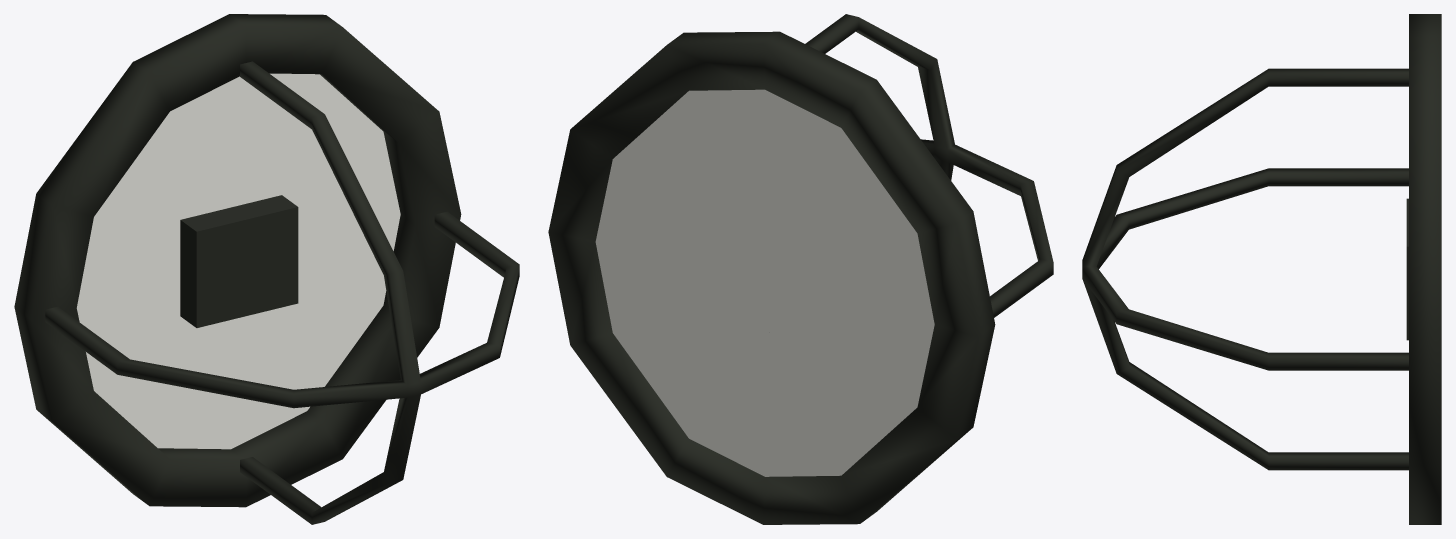
Rendered from lampada.fbx.
3 renders of one model, left to right at view 1: azimuth 30°, elevation 25°; view 2: azimuth 150°, elevation 25°; view 3: azimuth 270°, elevation 25°, orthographic. The views are drawn at different scales.
Visible parts, largest first — view 1: Lampada; view 2: Lampada; view 3: Lampada.
Part boxes in pixels (x1,y1,x2,y2): Lampada: (14, 14, 519, 524); Lampada: (548, 14, 1053, 524); Lampada: (1082, 14, 1441, 524).
Bounding box in the file's own units: 14.79 × 15.81 × 11.03.
